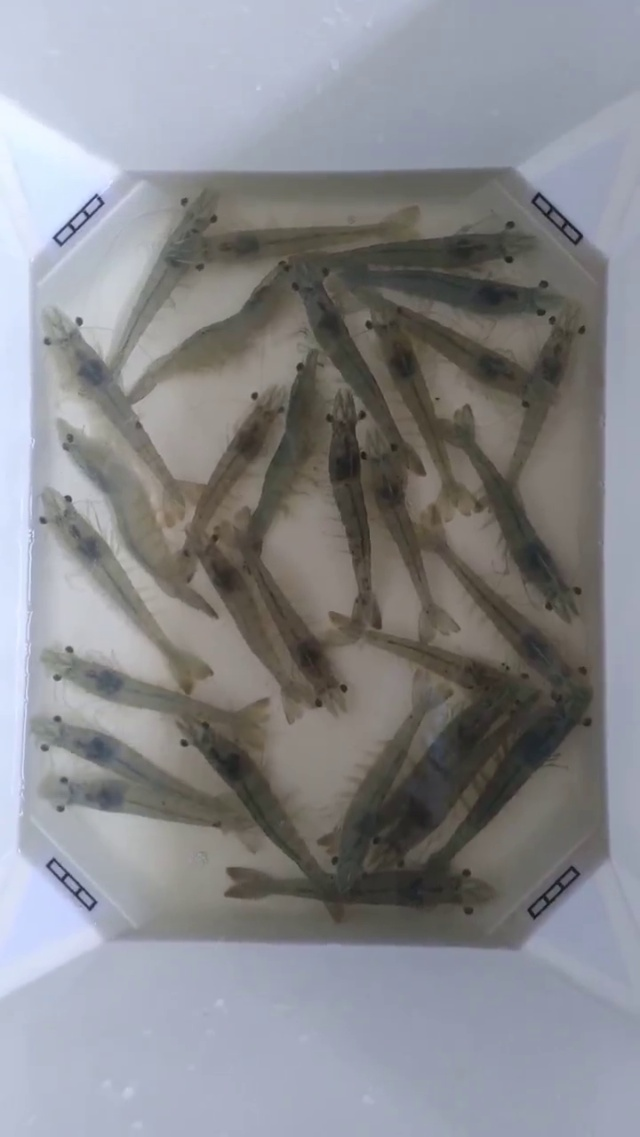shrimp: (575, 177, 639, 557), (70, 337, 185, 526), (579, 508, 639, 842), (22, 717, 124, 908), (31, 192, 137, 354), (183, 175, 287, 333), (179, 698, 286, 851), (477, 317, 573, 487), (441, 405, 531, 581), (39, 488, 152, 624), (424, 773, 514, 943), (0, 848, 103, 996), (122, 526, 217, 683), (452, 170, 554, 315), (28, 560, 118, 718), (287, 254, 375, 407), (257, 351, 326, 530), (298, 773, 375, 922), (381, 635, 505, 725), (500, 508, 577, 626), (224, 667, 313, 755), (0, 231, 33, 465), (317, 610, 381, 713), (237, 226, 345, 286), (125, 659, 229, 720)
